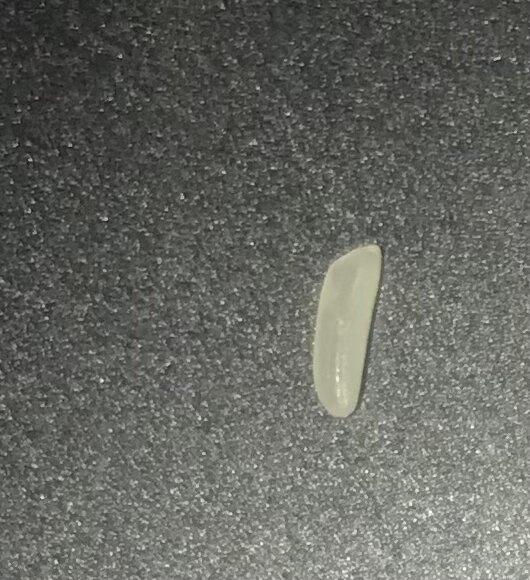Gao Long Lai: (308, 237, 390, 427)
